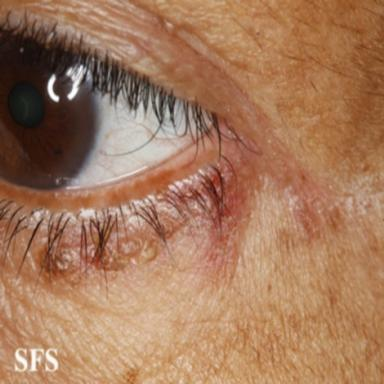Hailey-Hailey-Disease: (187, 154, 258, 270)
